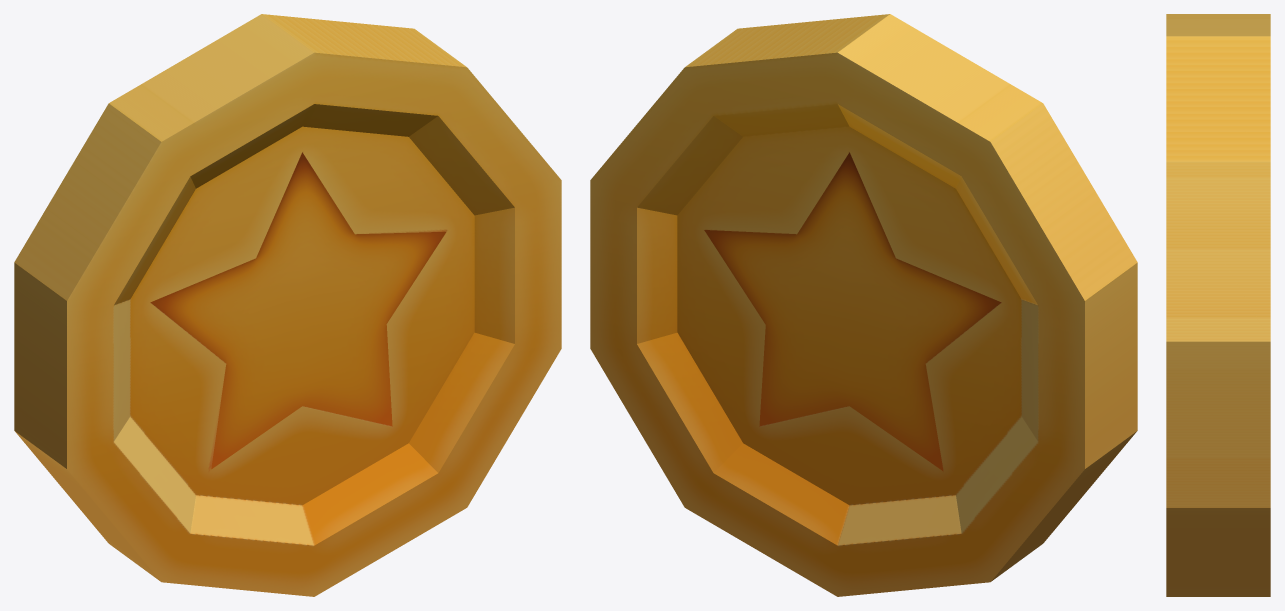
The model's file is Coin.fbx.
3 renders of one model, left to right at view 1: azimuth 30°, elevation 25°; view 2: azimuth 150°, elevation 25°; view 3: azimuth 270°, elevation 25°, orthographic.
Visible parts, largest first — view 1: pCylinder5; view 2: pCylinder5; view 3: pCylinder5.
Boxes of the visible parts, left/top/right/bottom form: pCylinder5: left=14, top=14, right=561, bottom=596; pCylinder5: left=590, top=14, right=1137, bottom=596; pCylinder5: left=1166, top=14, right=1270, bottom=596.
Bounding box in the file's own units: 59.38 × 62.44 × 10.97.
